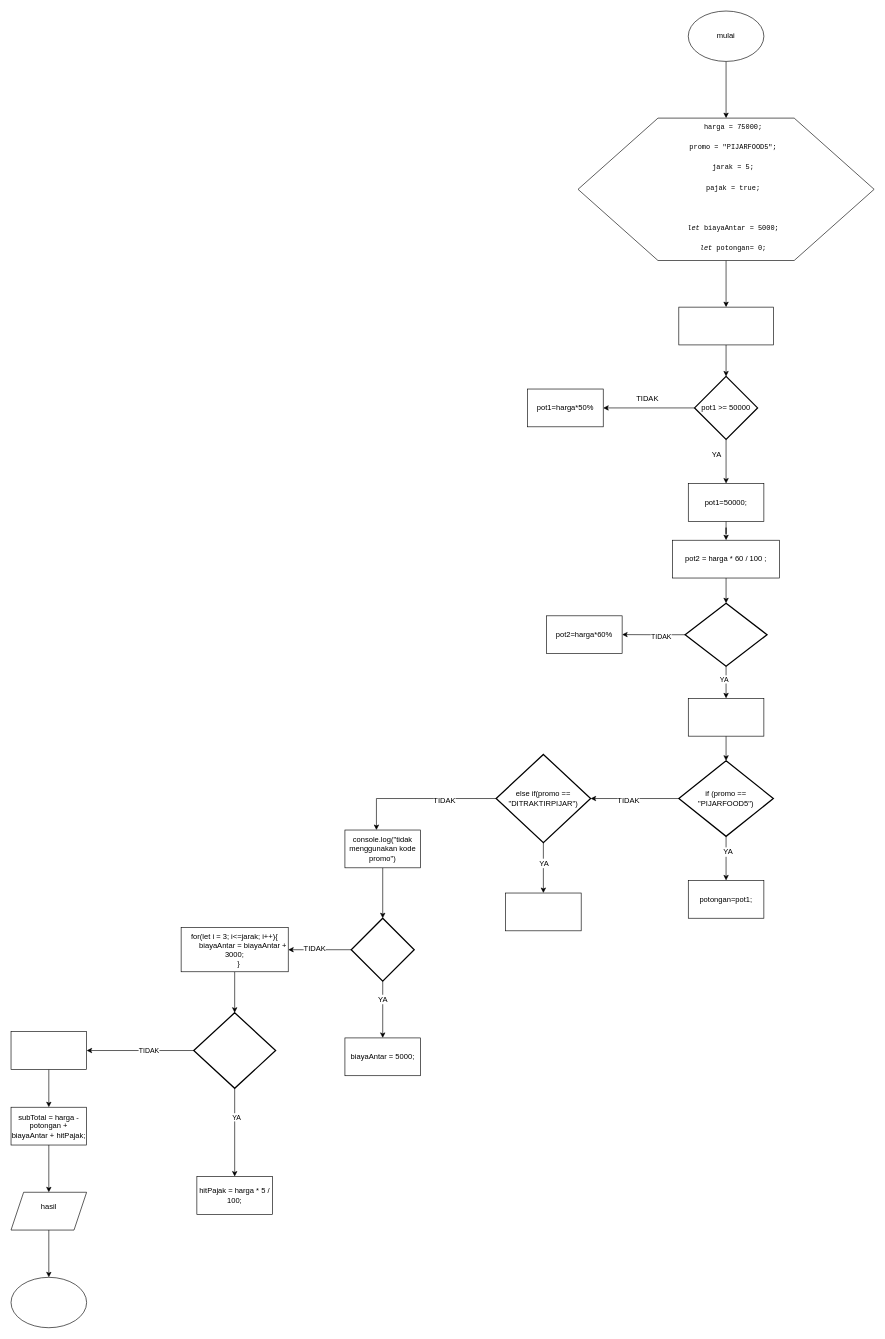
The diagram is 885 pixels wide and 1339 high, and some of its shapes have lost their labels. The centre of each missing label's shape, as x and y in pixels:
"hitPajak = harga * 0;" goes at point (48, 1050).
"if(jarak <= 2)" goes at point (382, 949).
"if(pajak == true)" goes at point (234, 1050).
"if(pot2 >= 25000)" goes at point (725, 634).
"pot1 = harga * 50 / 100 ;" goes at point (725, 325).
"pot2=30000;" goes at point (726, 717).
"potongan=pot2;" goes at point (543, 911).
"selesai" goes at point (48, 1302).
